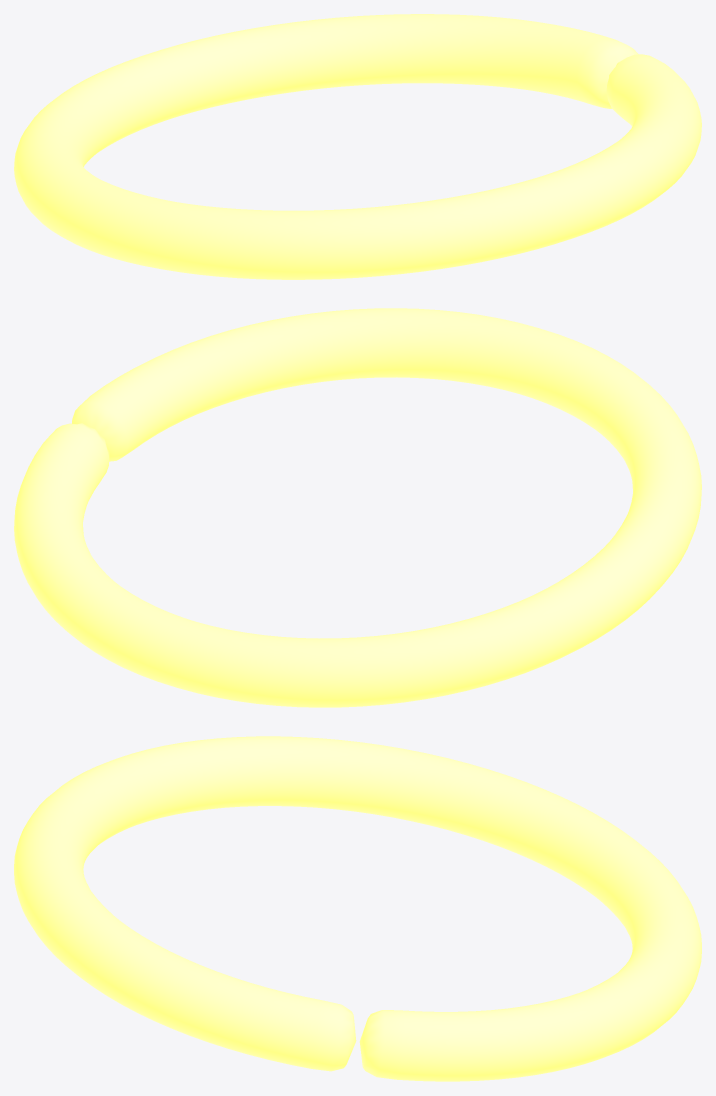
File: halo.glb
3 views of the same model, one above another, from view 1: azimuth 30°, elevation 25°; view 2: azimuth 150°, elevation 25°; view 3: azimuth 270°, elevation 25° (orthographic).
Parts seen in each view (by area): view 1: ACC_halo_torus; view 2: ACC_halo_torus; view 3: ACC_halo_torus.
Boxes of the visible parts, box(x1,y1,x2,y2) form: ACC_halo_torus: box(14, 14, 701, 279); ACC_halo_torus: box(14, 308, 701, 707); ACC_halo_torus: box(14, 736, 701, 1081).
Size of the model in its own units: 0.6634 by 0.1496 by 0.6586.
